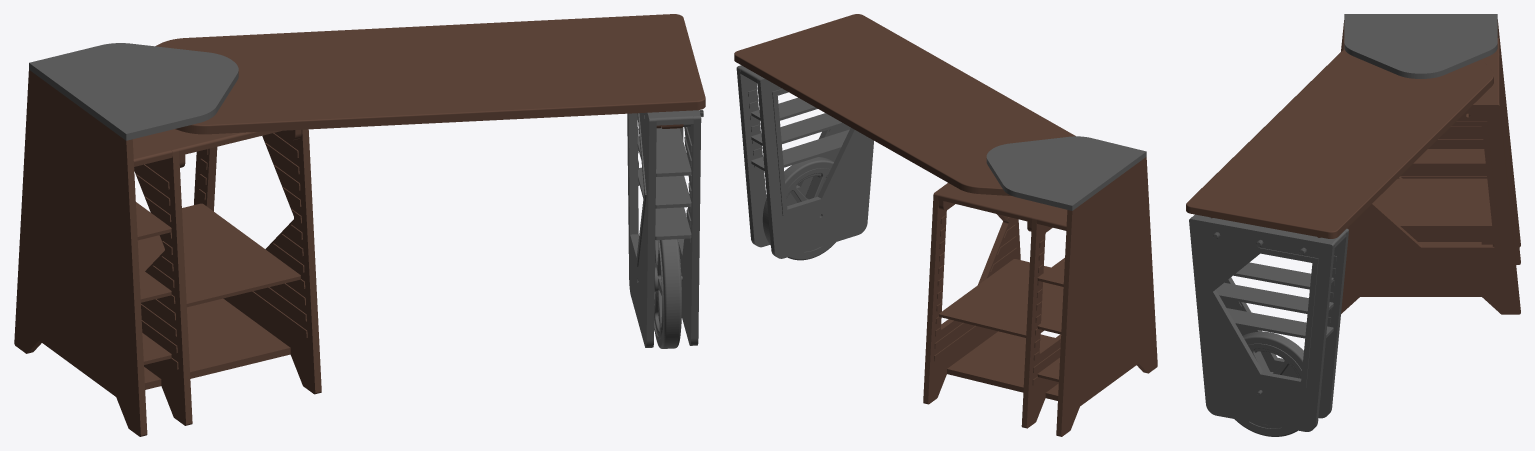
Rendered from Part__Feature131.dae.
The picture shows the model from 3 angles, left to right: view 1: azimuth 30°, elevation 25°; view 2: azimuth 150°, elevation 25°; view 3: azimuth 270°, elevation 25°; orthographic projection. The views are drawn at different scales.
Parts seen in each view (by area): view 1: tmp_export_Part__Feature131; view 2: tmp_export_Part__Feature131; view 3: tmp_export_Part__Feature131.
Boxes of the visible parts, x1,y1,x2,y2 form: tmp_export_Part__Feature131: [14, 14, 705, 436]; tmp_export_Part__Feature131: [734, 14, 1157, 436]; tmp_export_Part__Feature131: [1186, 14, 1520, 436].
Size of the model in its own units: 1.62 by 1.08 by 0.8255.
